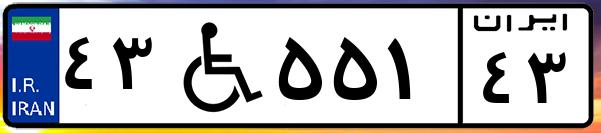1: (385, 28, 445, 110)
3: (525, 38, 570, 115), (110, 28, 158, 98)
4: (57, 26, 110, 100), (475, 38, 525, 113)
5: (270, 28, 330, 110), (330, 28, 385, 110)
ژ (معلولین و جانبازان): (158, 12, 270, 120)
